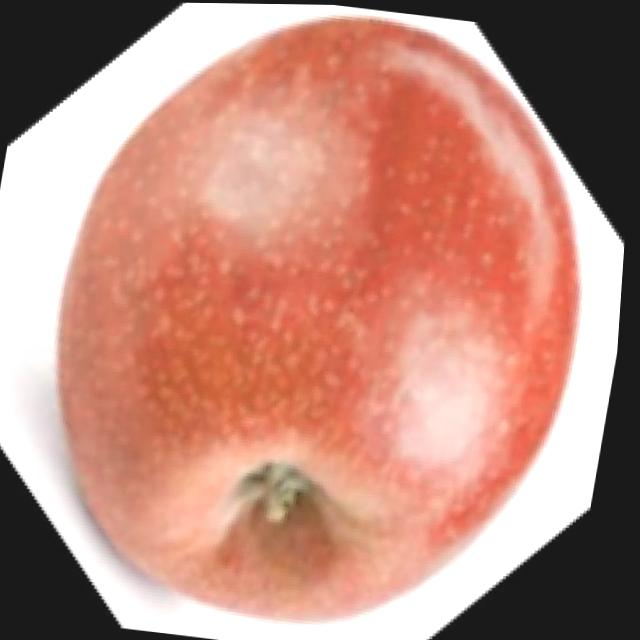Apple: (15, 1, 630, 640)
